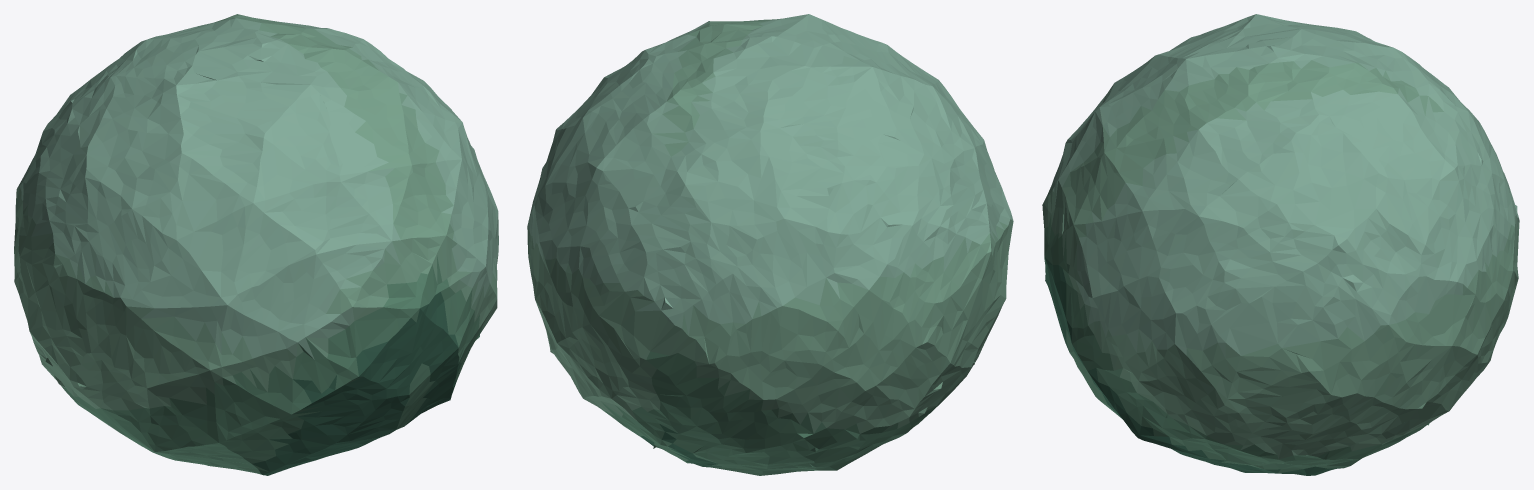
The model's file is bush.glb.
3 views of the same model, side by side, from view 1: azimuth 30°, elevation 25°; view 2: azimuth 150°, elevation 25°; view 3: azimuth 270°, elevation 25° (orthographic).
Parts seen in each view (by area): view 1: geometry_0; view 2: geometry_0; view 3: geometry_0.
Boxes of the visible parts, bbox=[...] form: geometry_0: bbox=[14, 14, 498, 475]; geometry_0: bbox=[527, 14, 1013, 475]; geometry_0: bbox=[1042, 14, 1519, 475].
Size of the model in its own units: 1.99 by 1.85 by 1.98.
